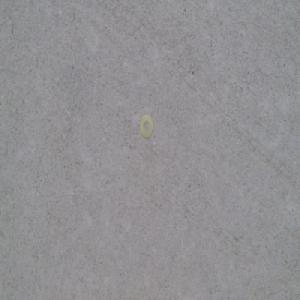Washer: (138, 114, 152, 141)
